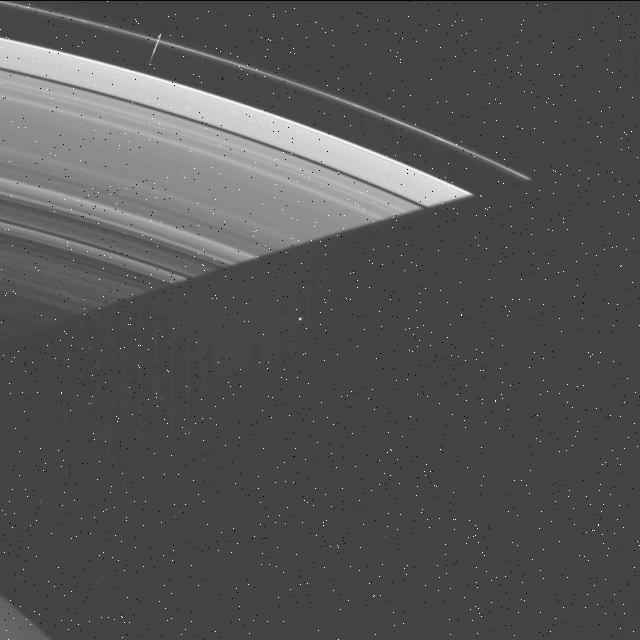Saturn: (0, 0, 535, 640)
